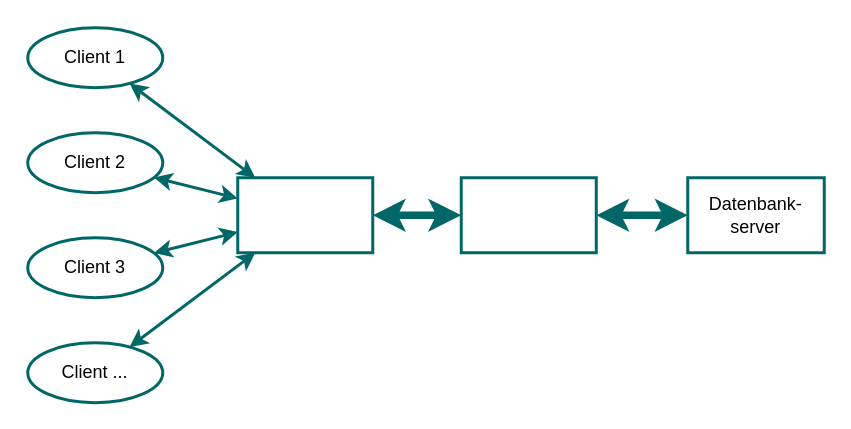
Some shapes in this 851 by 429 pixel diagram are drawn without their labels. Each missing label, with the box of its shape:
Anwendungs- server: (459, 176, 597, 254)
Webserver: (236, 176, 374, 254)
